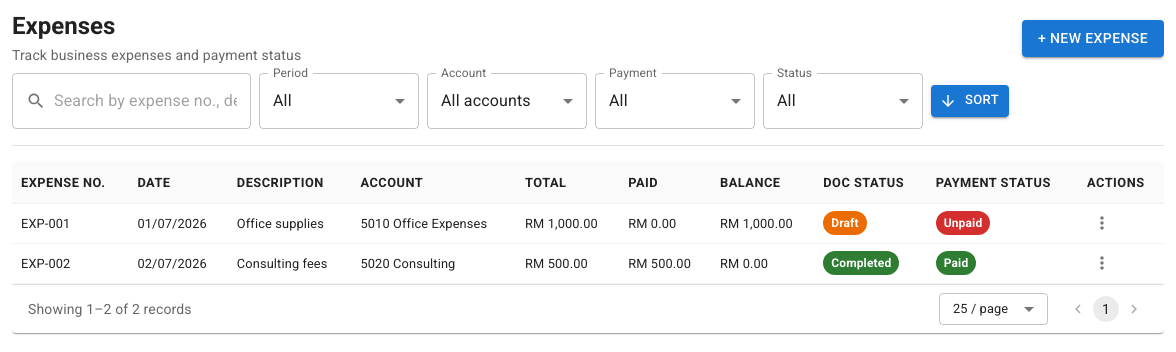
Test: ExpensesPage › Account filter eligibility (#1016) › omits the configured COGS account and keeps other expense accounts
The image size is (1176, 352).
Click the dropdown labelled "account" at (486, 101), box [441,91,531,110]
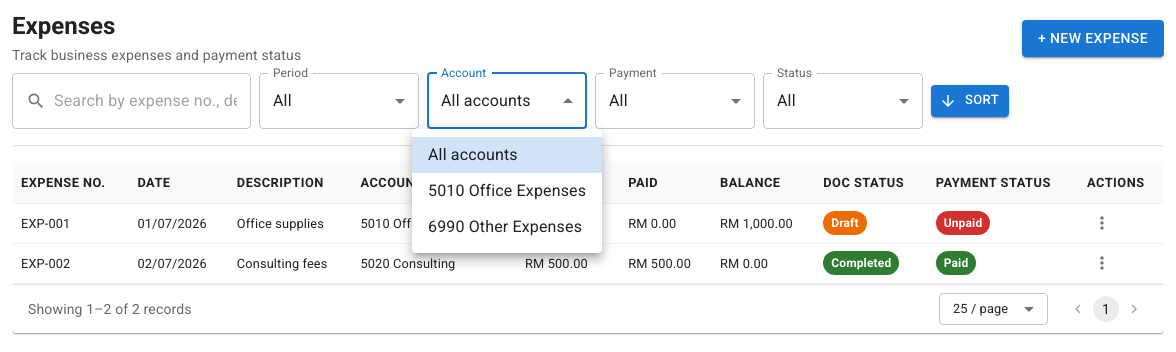
Expected: the option "All accounts" is shown, [412,137,602,173]
Expected: the option "5010 Office Expenses" is shown, [428,181,586,200]
Expected: the option "6990 Other Expenses" is shown, [428,217,582,236]
